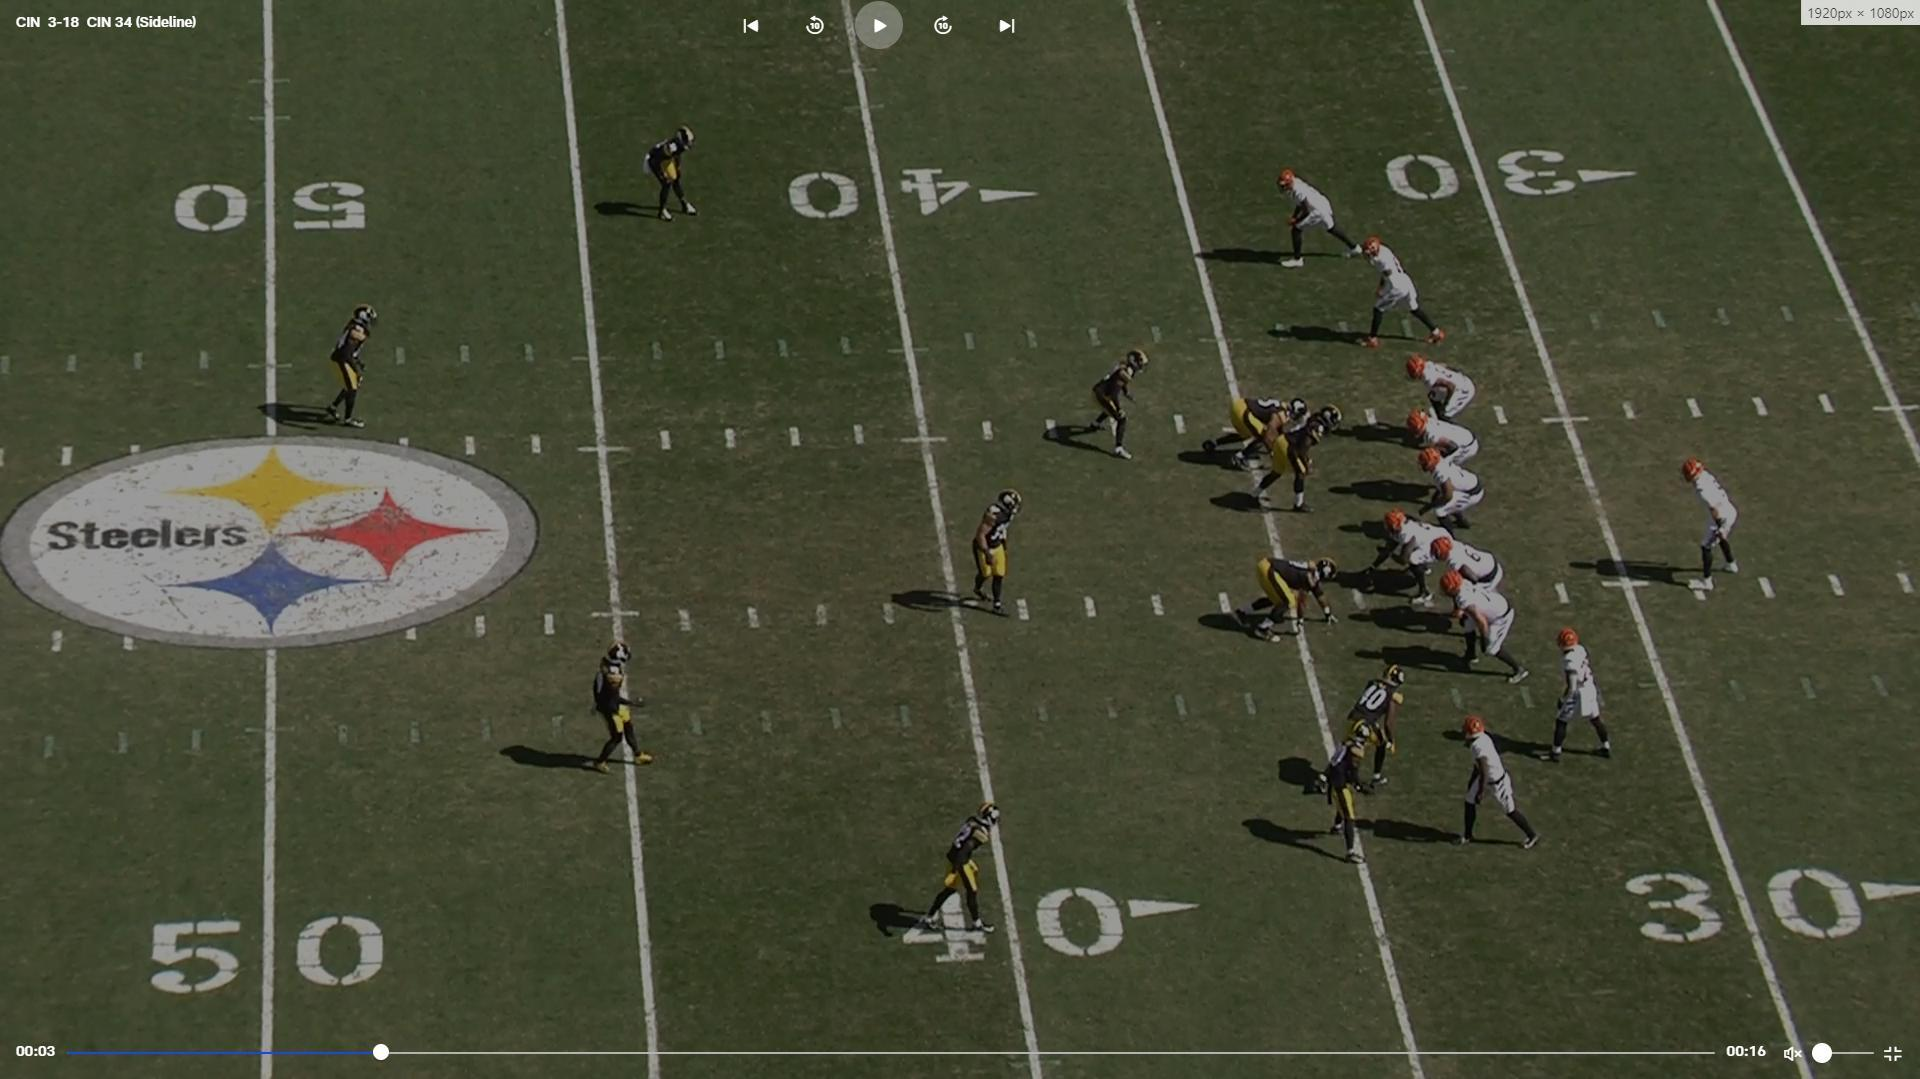defense: (922, 797, 1017, 955), (1323, 666, 1410, 794), (1238, 402, 1333, 518), (1228, 555, 1342, 648), (1319, 731, 1383, 867), (975, 489, 1035, 631), (593, 633, 649, 781), (322, 294, 380, 433), (1091, 343, 1155, 466), (1212, 394, 1320, 466), (638, 121, 702, 232)
oline: (1449, 576, 1530, 687), (1381, 510, 1456, 616), (1433, 539, 1509, 627), (1420, 447, 1487, 537), (1403, 410, 1478, 472)
qb: (1680, 458, 1749, 604)
skill: (1455, 716, 1544, 856), (1357, 233, 1452, 352), (1552, 629, 1629, 772), (1273, 162, 1361, 270), (1408, 352, 1481, 426)
